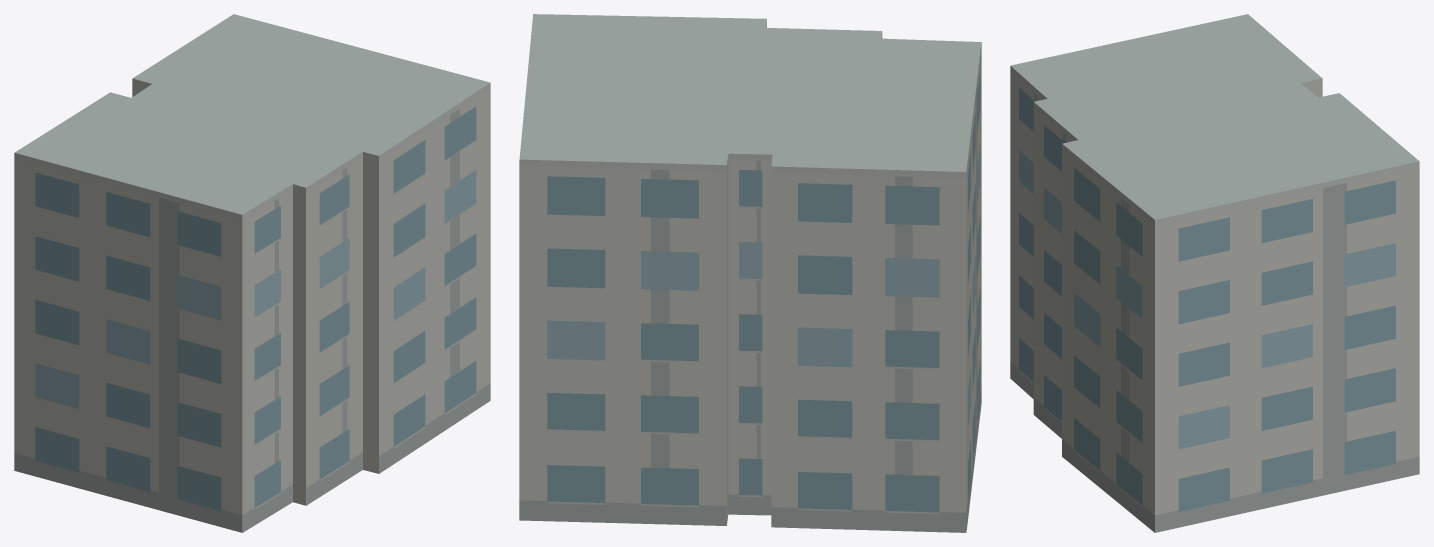
The model's file is survey-upis-33003346.glb.
The picture shows the model from 3 angles, left to right: view 1: azimuth 30°, elevation 25°; view 2: azimuth 150°, elevation 25°; view 3: azimuth 270°, elevation 25°; orthographic projection. The views are drawn at different scales.
Parts seen in each view (by area): view 1: survey-upis-33003346.tmp; view 2: survey-upis-33003346.tmp; view 3: survey-upis-33003346.tmp.
Boxes of the visible parts, x1,y1,x2,y2 form: survey-upis-33003346.tmp: [14, 14, 490, 532]; survey-upis-33003346.tmp: [519, 14, 981, 532]; survey-upis-33003346.tmp: [1010, 14, 1419, 532].
Bounding box in the file's own units: 19.49 × 13.8 × 16.36.
